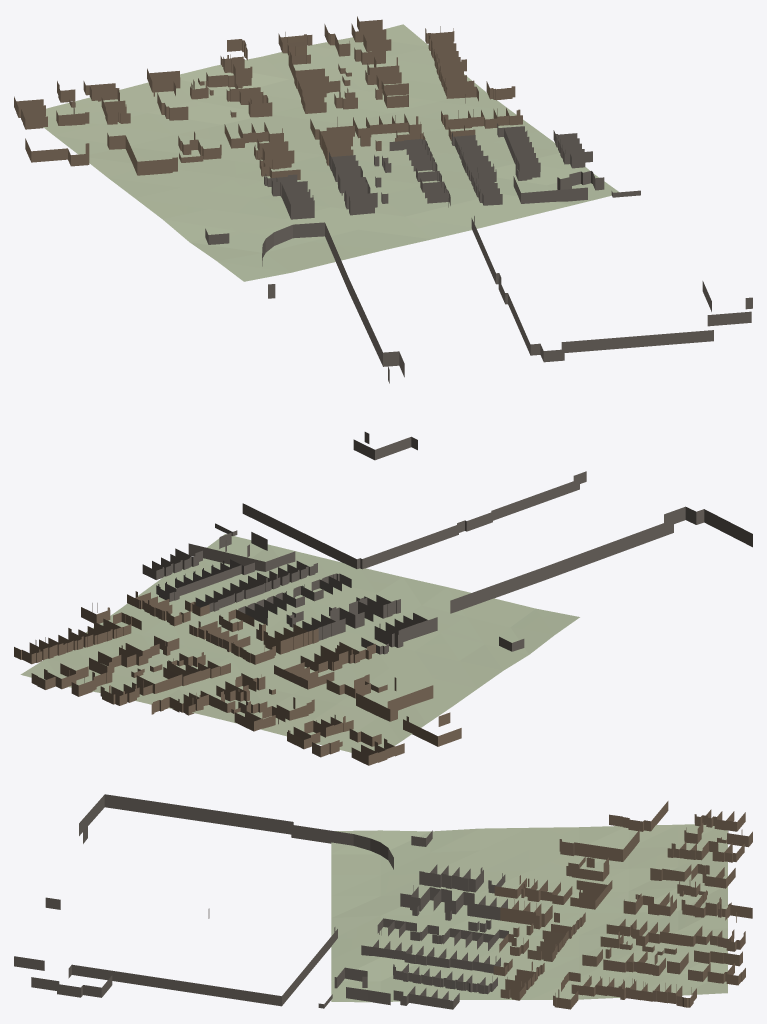
Rendered from tile_36_-1_lod1.gltf.
The picture shows the model from 3 angles, top to bottom: view 1: azimuth 30°, elevation 25°; view 2: azimuth 150°, elevation 25°; view 3: azimuth 270°, elevation 25°; orthographic projection. The views are drawn at different scales.
Parts seen in each view (by area): view 1: Terrain_col, Buildings_col; view 2: Buildings_col, Terrain_col; view 3: Terrain_col, Buildings_col.
Boxes of the visible parts, x1=… form: Terrain_col: x1=44, y1=24, x2=619, y2=281; Buildings_col: x1=14, y1=16, x2=752, y2=383; Buildings_col: x1=14, y1=432, x2=752, y2=765; Terrain_col: x1=20, y1=534, x2=579, y2=752; Terrain_col: x1=331, y1=824, x2=727, y2=1002; Buildings_col: x1=14, y1=794, x2=752, y2=1009.
Bounding box in the file's own units: 315 × 17.03 × 477.
